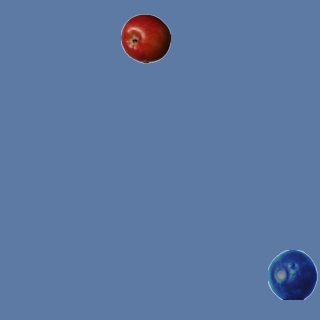Apple Braeburn: (120, 13, 170, 63)
Huckleberry: (267, 249, 317, 299)
